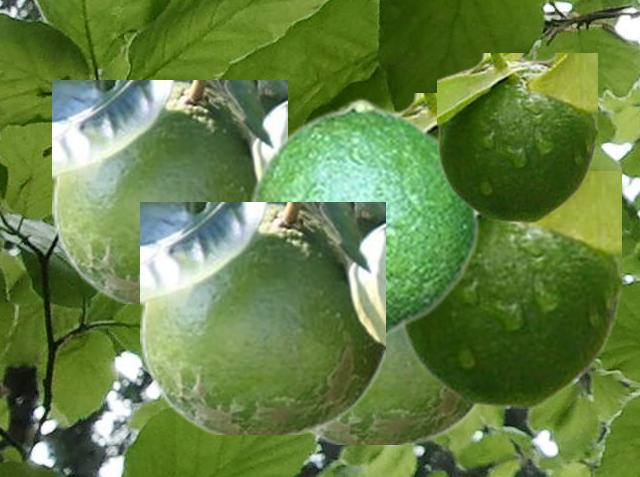dalandan: (140, 202, 384, 433), (246, 97, 479, 338), (399, 171, 620, 407), (52, 80, 286, 302), (437, 53, 596, 222), (306, 331, 477, 443), (392, 93, 437, 135)
